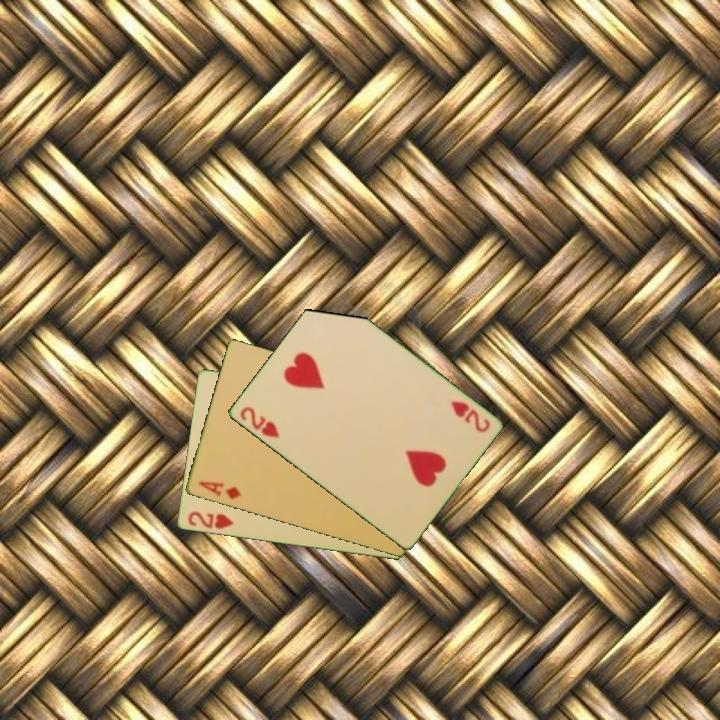2h: (446, 397, 493, 436), (236, 403, 282, 441), (184, 508, 236, 532)
Ad: (195, 478, 244, 502)
